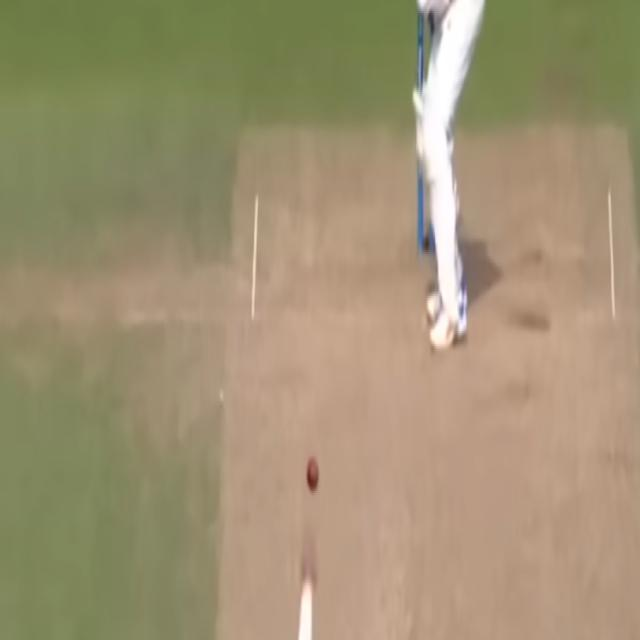ball: (300, 440, 326, 500)
